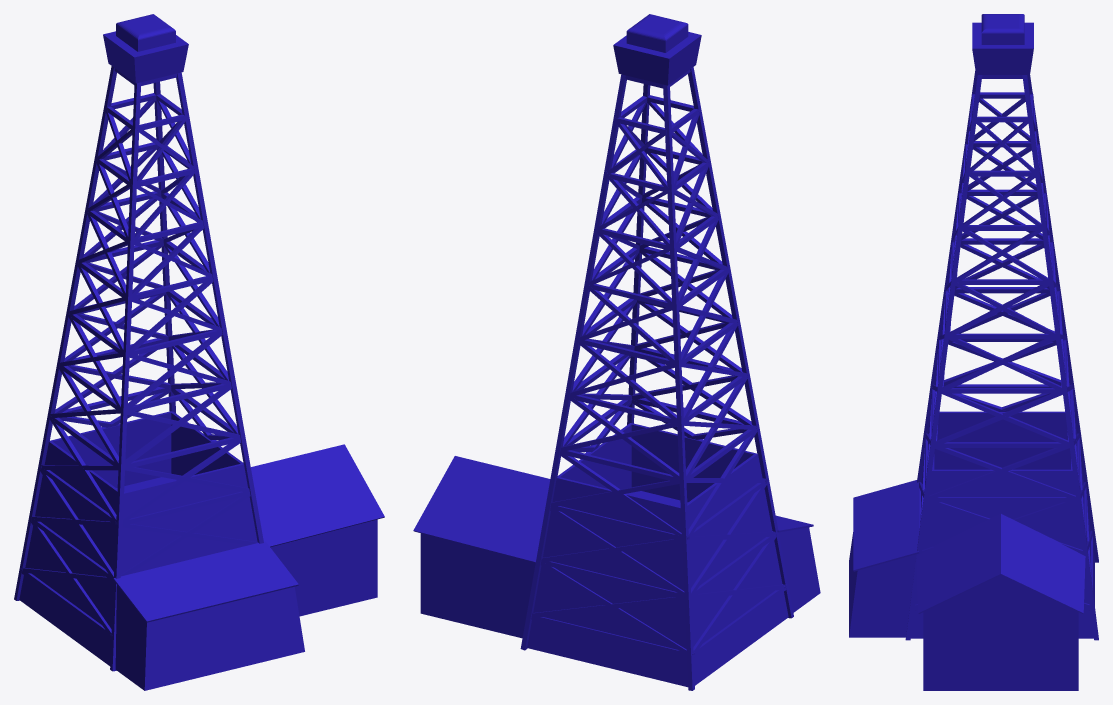
File: oil-derrick-small.glb
3 renders of one model, left to right at view 1: azimuth 30°, elevation 25°; view 2: azimuth 150°, elevation 25°; view 3: azimuth 270°, elevation 25°, orthographic. The views are drawn at different scales.
Parts seen in each view (by area): view 1: Cube.036, Cube.037, Cube.038, Cube.034, Cube.027, Cube.022, Cube.039, Cube.035, Cube.020, Cube.033, Cube.021, Cube.023 (+8 smaller); view 2: Cube.036, Cube.038, Cube.031, Cube.026, Cube.030, Cube.032, Cube.039, Cube.021, Cube.022, Cube.024, Cube.020, Cube.027 (+8 smaller); view 3: Cube.038, Cube.036, Cube.037, Cube.029, Cube.028, Cube.025, Cube.039, Cube.024, Cube.023, Cube.027, Cube.022, Cube.026 (+7 smaller).
Part boxes in pixels (left/top/right/bottom): Cube.036: left=19, top=411, right=257, bottom=666; Cube.037: left=113, top=541, right=304, bottom=690; Cube.038: left=251, top=444, right=384, bottom=616; Cube.034: left=120, top=115, right=250, bottom=576; Cube.027: left=31, top=109, right=130, bottom=637; Cube.022: left=22, top=106, right=132, bottom=638; Cube.039: left=103, top=14, right=188, bottom=85; Cube.035: left=115, top=127, right=258, bottom=545; Cube.020: left=110, top=82, right=141, bottom=671; Cube.033: left=110, top=114, right=250, bottom=636; Cube.021: left=14, top=66, right=116, bottom=600; Cube.023: left=176, top=72, right=263, bottom=543; Cube.036: left=527, top=423, right=788, bottom=687; Cube.038: left=413, top=456, right=550, bottom=638; Cube.031: left=540, top=118, right=693, bottom=655; Cube.026: left=673, top=111, right=776, bottom=655; Cube.030: left=531, top=173, right=694, bottom=657; Cube.032: left=531, top=117, right=689, bottom=617; Cube.039: left=613, top=14, right=701, bottom=88; Cube.021: left=663, top=84, right=694, bottom=690; Cube.022: left=671, top=109, right=786, bottom=657; Cube.024: left=520, top=74, right=626, bottom=650; Cube.020: left=688, top=67, right=793, bottom=618; Cube.027: left=672, top=131, right=785, bottom=599; Cube.038: left=916, top=514, right=1085, bottom=690; Cube.036: left=910, top=411, right=1094, bottom=638; Cube.037: left=849, top=480, right=919, bottom=637; Cube.029: left=914, top=117, right=1083, bottom=609; Cube.028: left=921, top=120, right=1090, bottom=609; Cube.025: left=914, top=116, right=1090, bottom=610; Cube.039: left=972, top=14, right=1033, bottom=78; Cube.024: left=1022, top=75, right=1098, bottom=640; Cube.023: left=905, top=75, right=982, bottom=640; Cube.027: left=943, top=98, right=1056, bottom=411; Cube.022: left=948, top=92, right=1056, bottom=387; Cube.026: left=948, top=98, right=1061, bottom=411.
Bounding box in the file's own units: 5.17 × 10.4 × 4.07.
